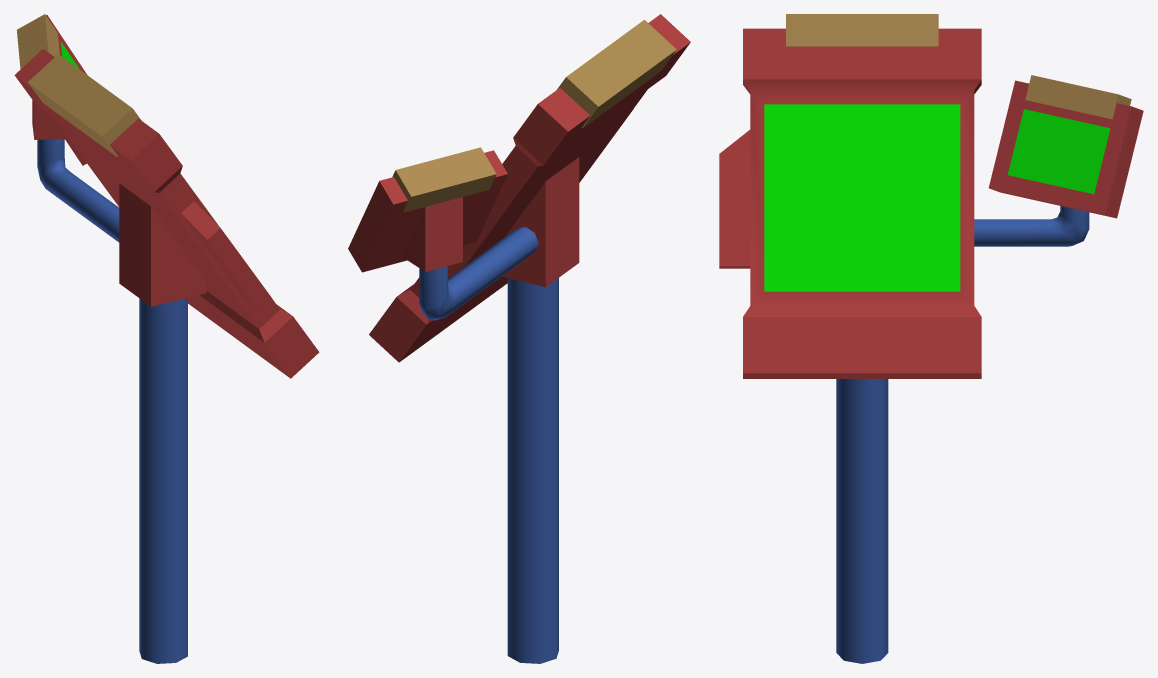
Rendered from SM_Screen_02.fbx.
3 views of the same model, side by side, from view 1: azimuth 30°, elevation 25°; view 2: azimuth 150°, elevation 25°; view 3: azimuth 270°, elevation 25° (orthographic). The views are drawn at different scales.
Visible parts, largest first — view 1: SM_Screen_02; view 2: SM_Screen_02; view 3: SM_Screen_02.
Boxes of the visible parts, box(x1,y1,x2,y2) form: SM_Screen_02: box(14, 14, 319, 663); SM_Screen_02: box(348, 14, 690, 663); SM_Screen_02: box(719, 14, 1143, 663).
Size of the model in its own units: 56.35 by 161 by 103.
